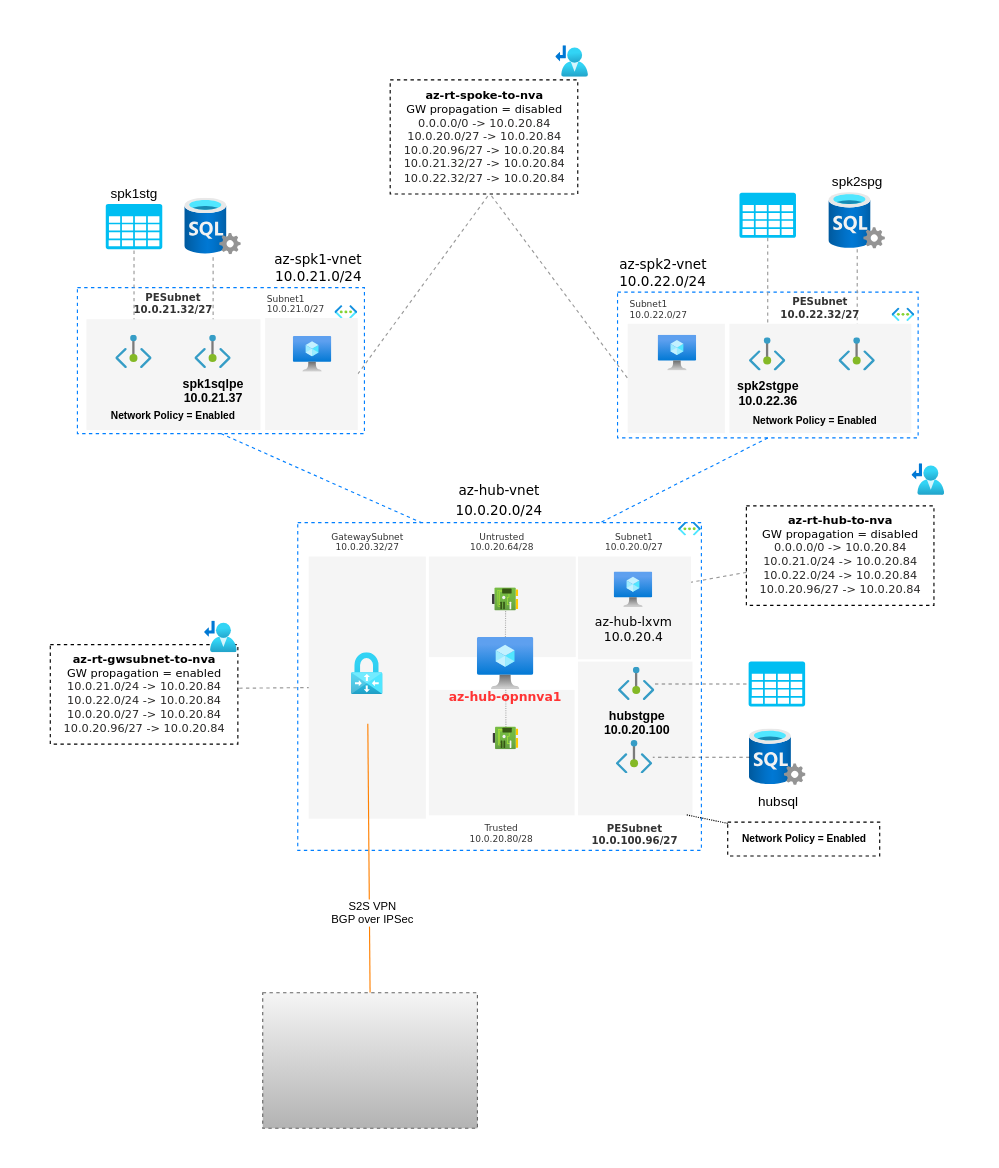
The diagram is 999 pixels wide and 1168 high, and some of its shapes have lost their labels. The centre of each missing label's shape, as x and y in pixels:
"10.0.20.68 Untrusted NIC -> Internet" belongs at (x=505, y=599).
"az-hub-vpngw" belongs at (x=367, y=673).
"az-spk1-lxvm 10.0.21.4" belongs at (x=312, y=354).
"az-spk2-lxvm 10.0.22.4" belongs at (x=677, y=352).
"hubsqlpe 10.0.20.101" belongs at (x=634, y=756).
"hubstg" belongs at (x=776, y=683).
"On-premies 192.168.100.0/24 onprem-lxvm 192.168.100.4" belongs at (x=369, y=1060).
"spk1sql" belongs at (x=212, y=226).
"spk1stgpe 10.0.21.36" belongs at (x=133, y=351).
"spk2sqlpe 10.0.22.6" belongs at (x=856, y=354).
"spk2stg" belongs at (x=767, y=214).
"Trusted-NIC 10.0.20.84" belongs at (x=505, y=738).
